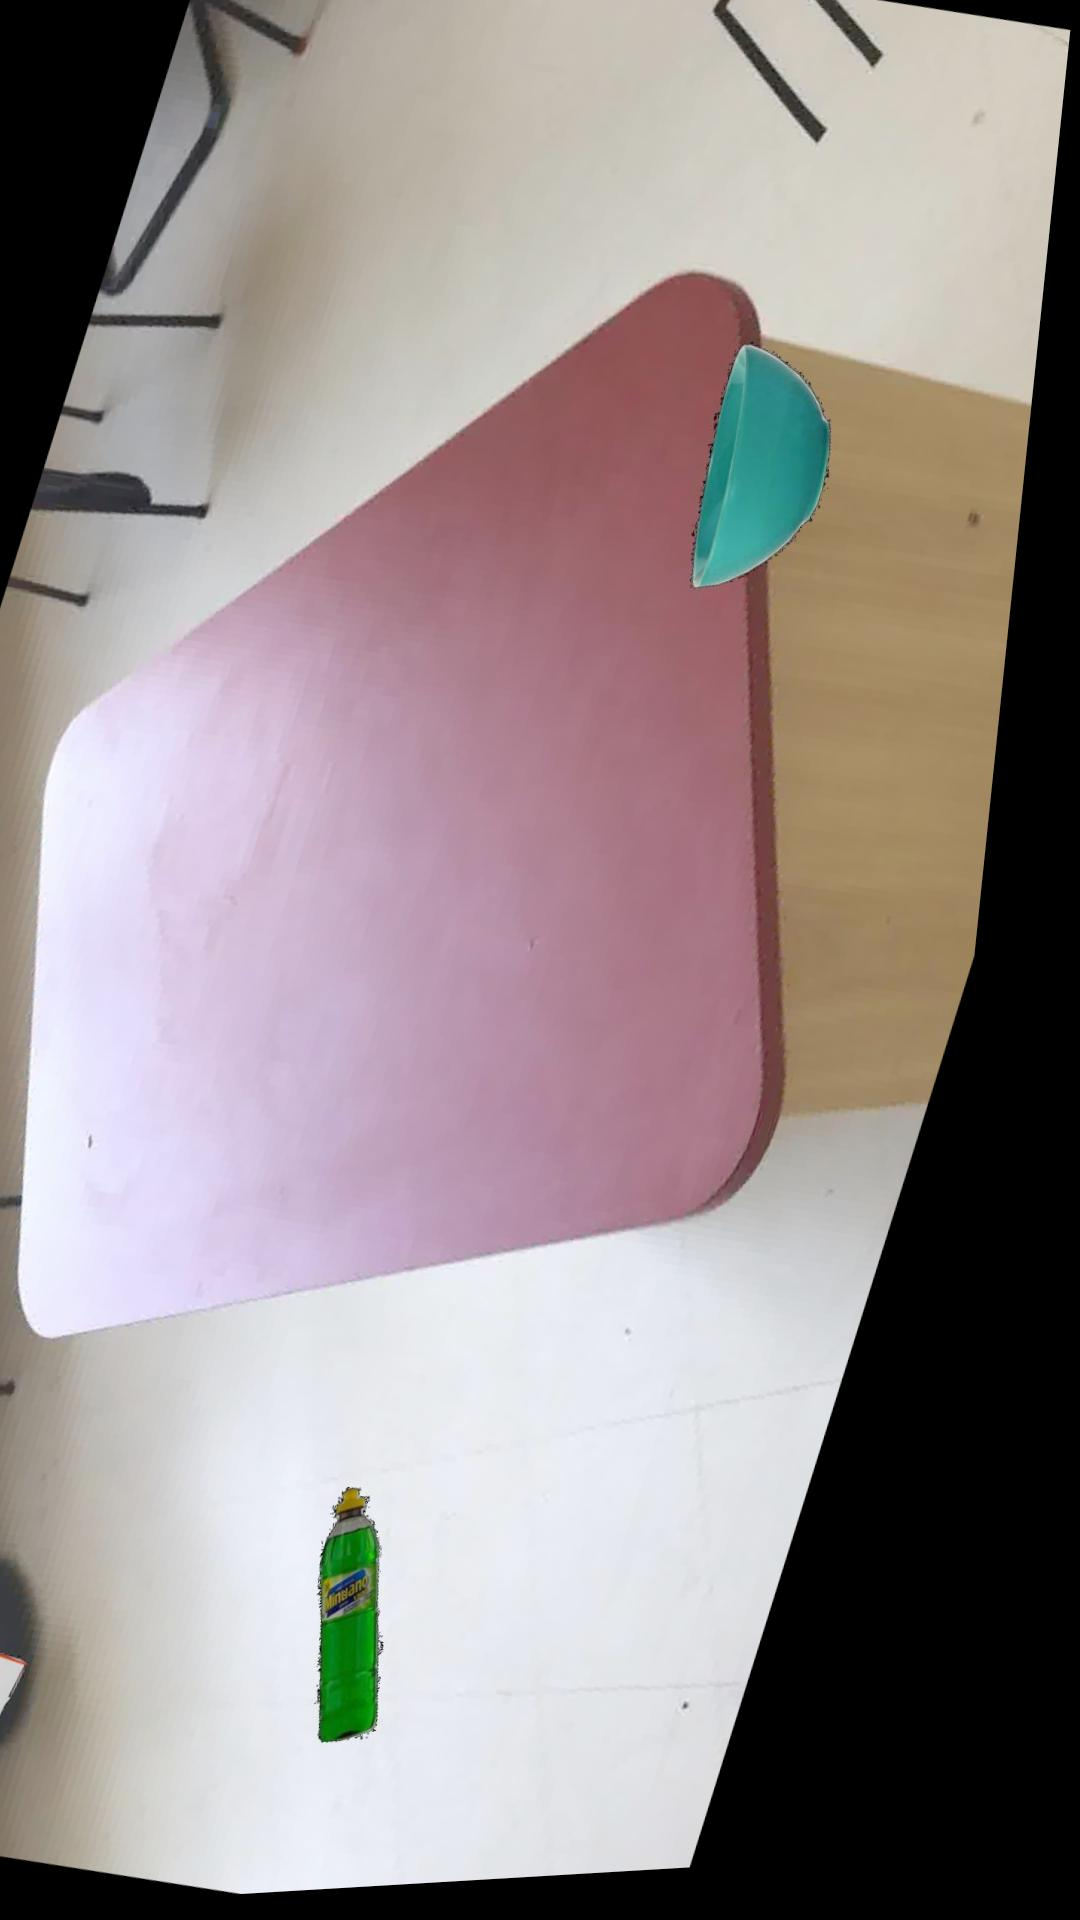bowl: (705, 352, 841, 596)
cleaner: (353, 1491, 421, 1746)
